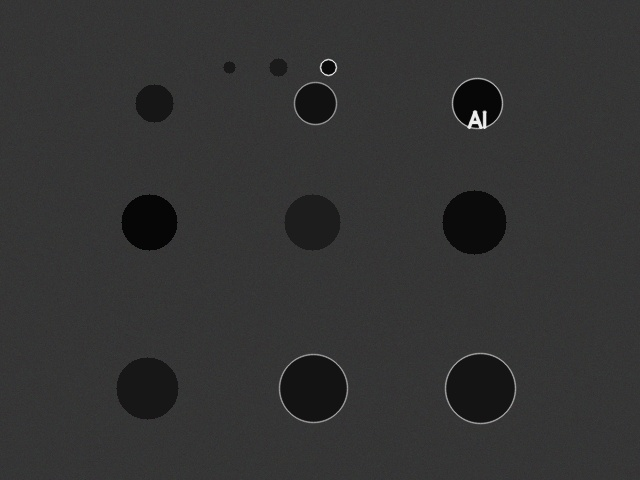hole: (445, 353, 515, 423), (279, 354, 347, 422), (442, 190, 506, 254), (116, 357, 178, 419), (121, 194, 177, 250), (284, 194, 340, 250), (452, 78, 502, 128), (294, 82, 336, 124), (135, 84, 173, 122), (269, 58, 287, 76), (320, 59, 336, 75), (223, 61, 235, 73)
